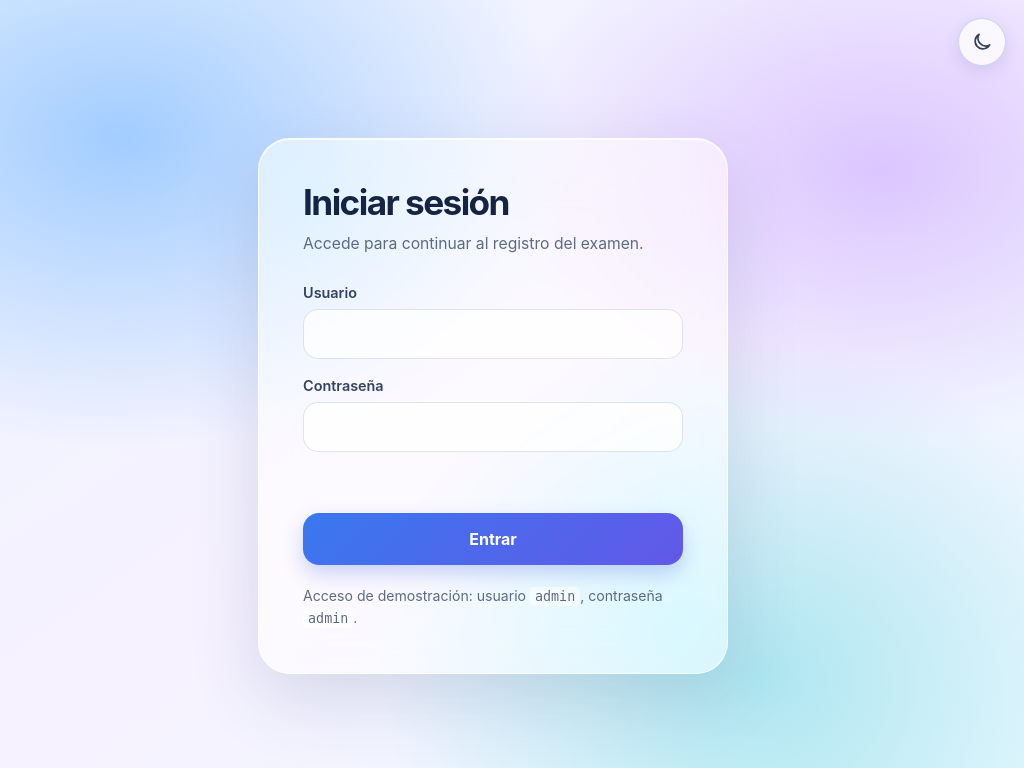
Scenario: LoginPage › shows a storage error if signing in cannot persist the session
This screenshot has width=1024, height=768.
Type "admin" into the field labelled "Usuario" at [493, 334], box [303, 309, 683, 359]
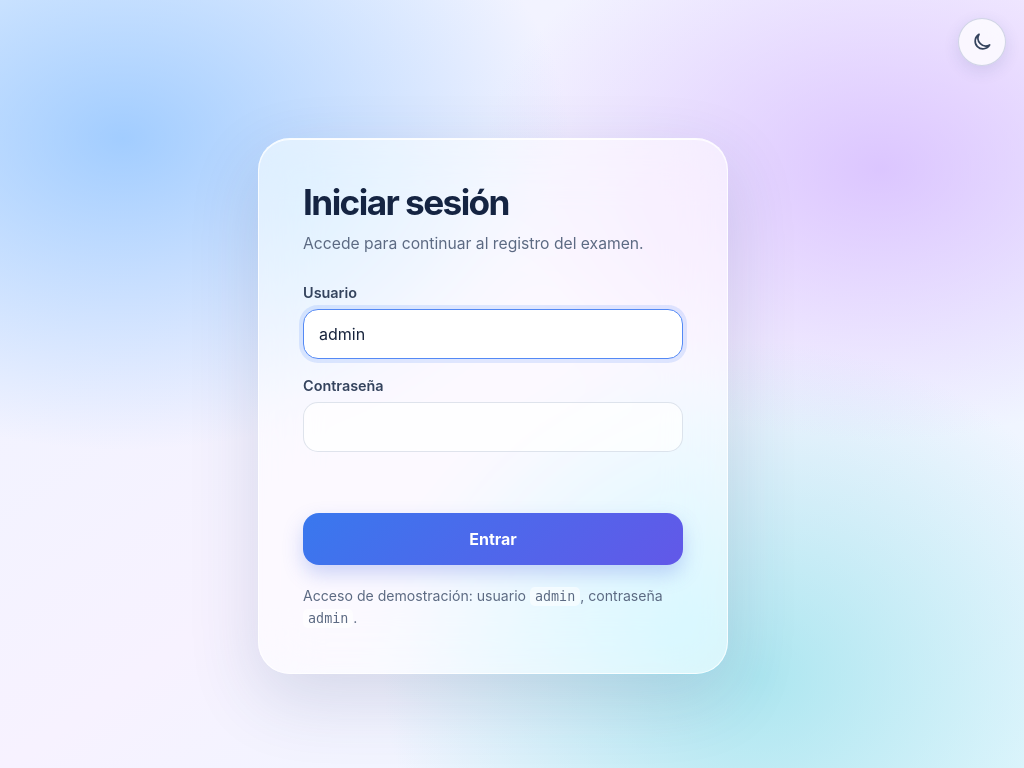
Type "admin" into the password field labelled "Contraseña" at [493, 427], box [303, 402, 683, 452]
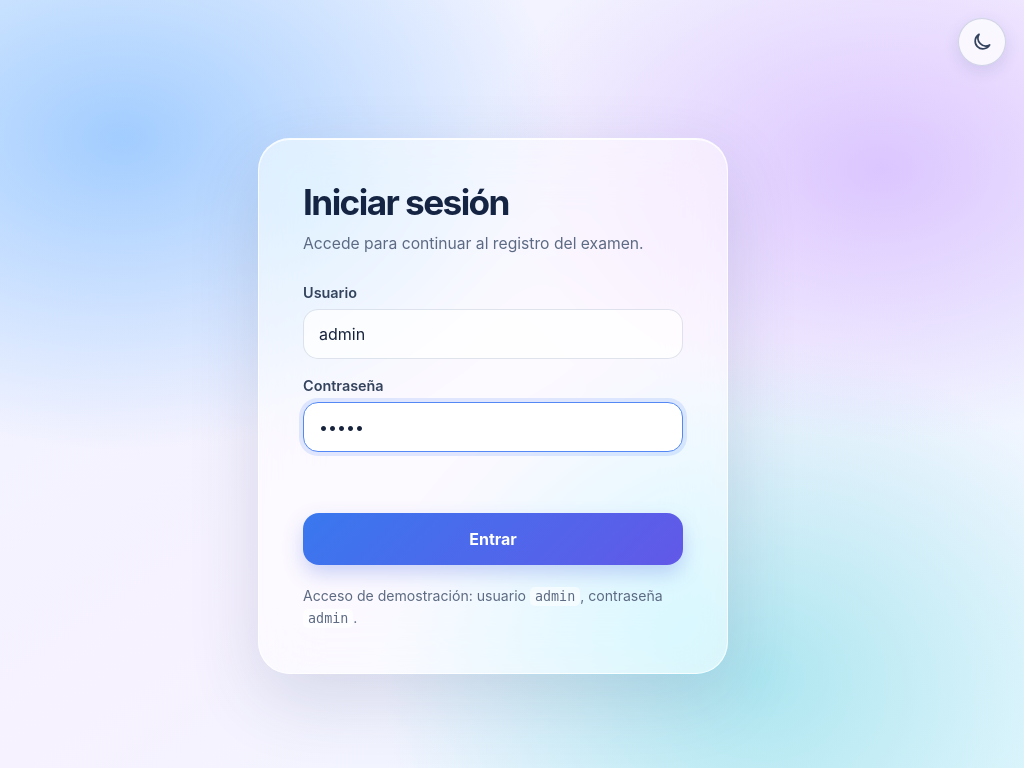
Click the button "Entrar" at [493, 539], box [303, 513, 683, 565]
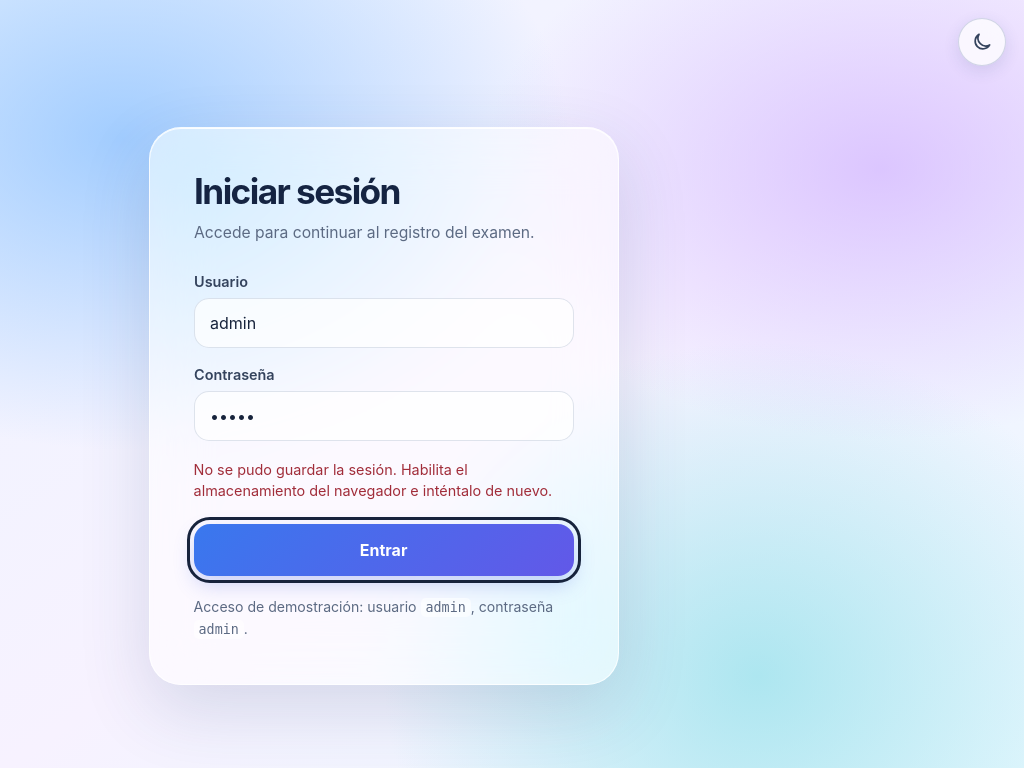
Check: the heading "Iniciar sesión" is shown, box [194, 170, 400, 212]
Check: the message shows "No se pudo guardar la sesión. Habilita el almacenamiento del navegador e inténtalo de nuevo.", box [194, 461, 552, 499]
